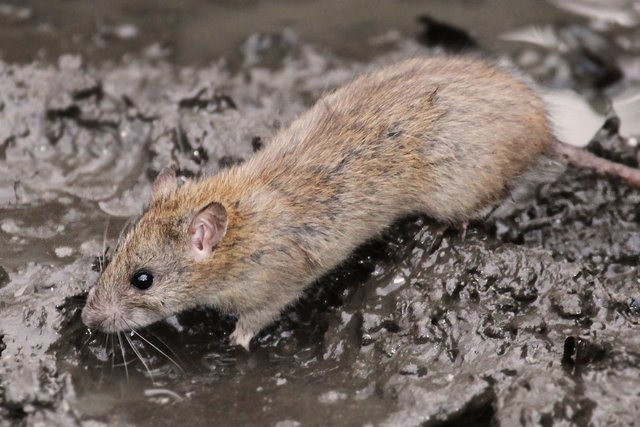rat: (62, 38, 625, 360)
